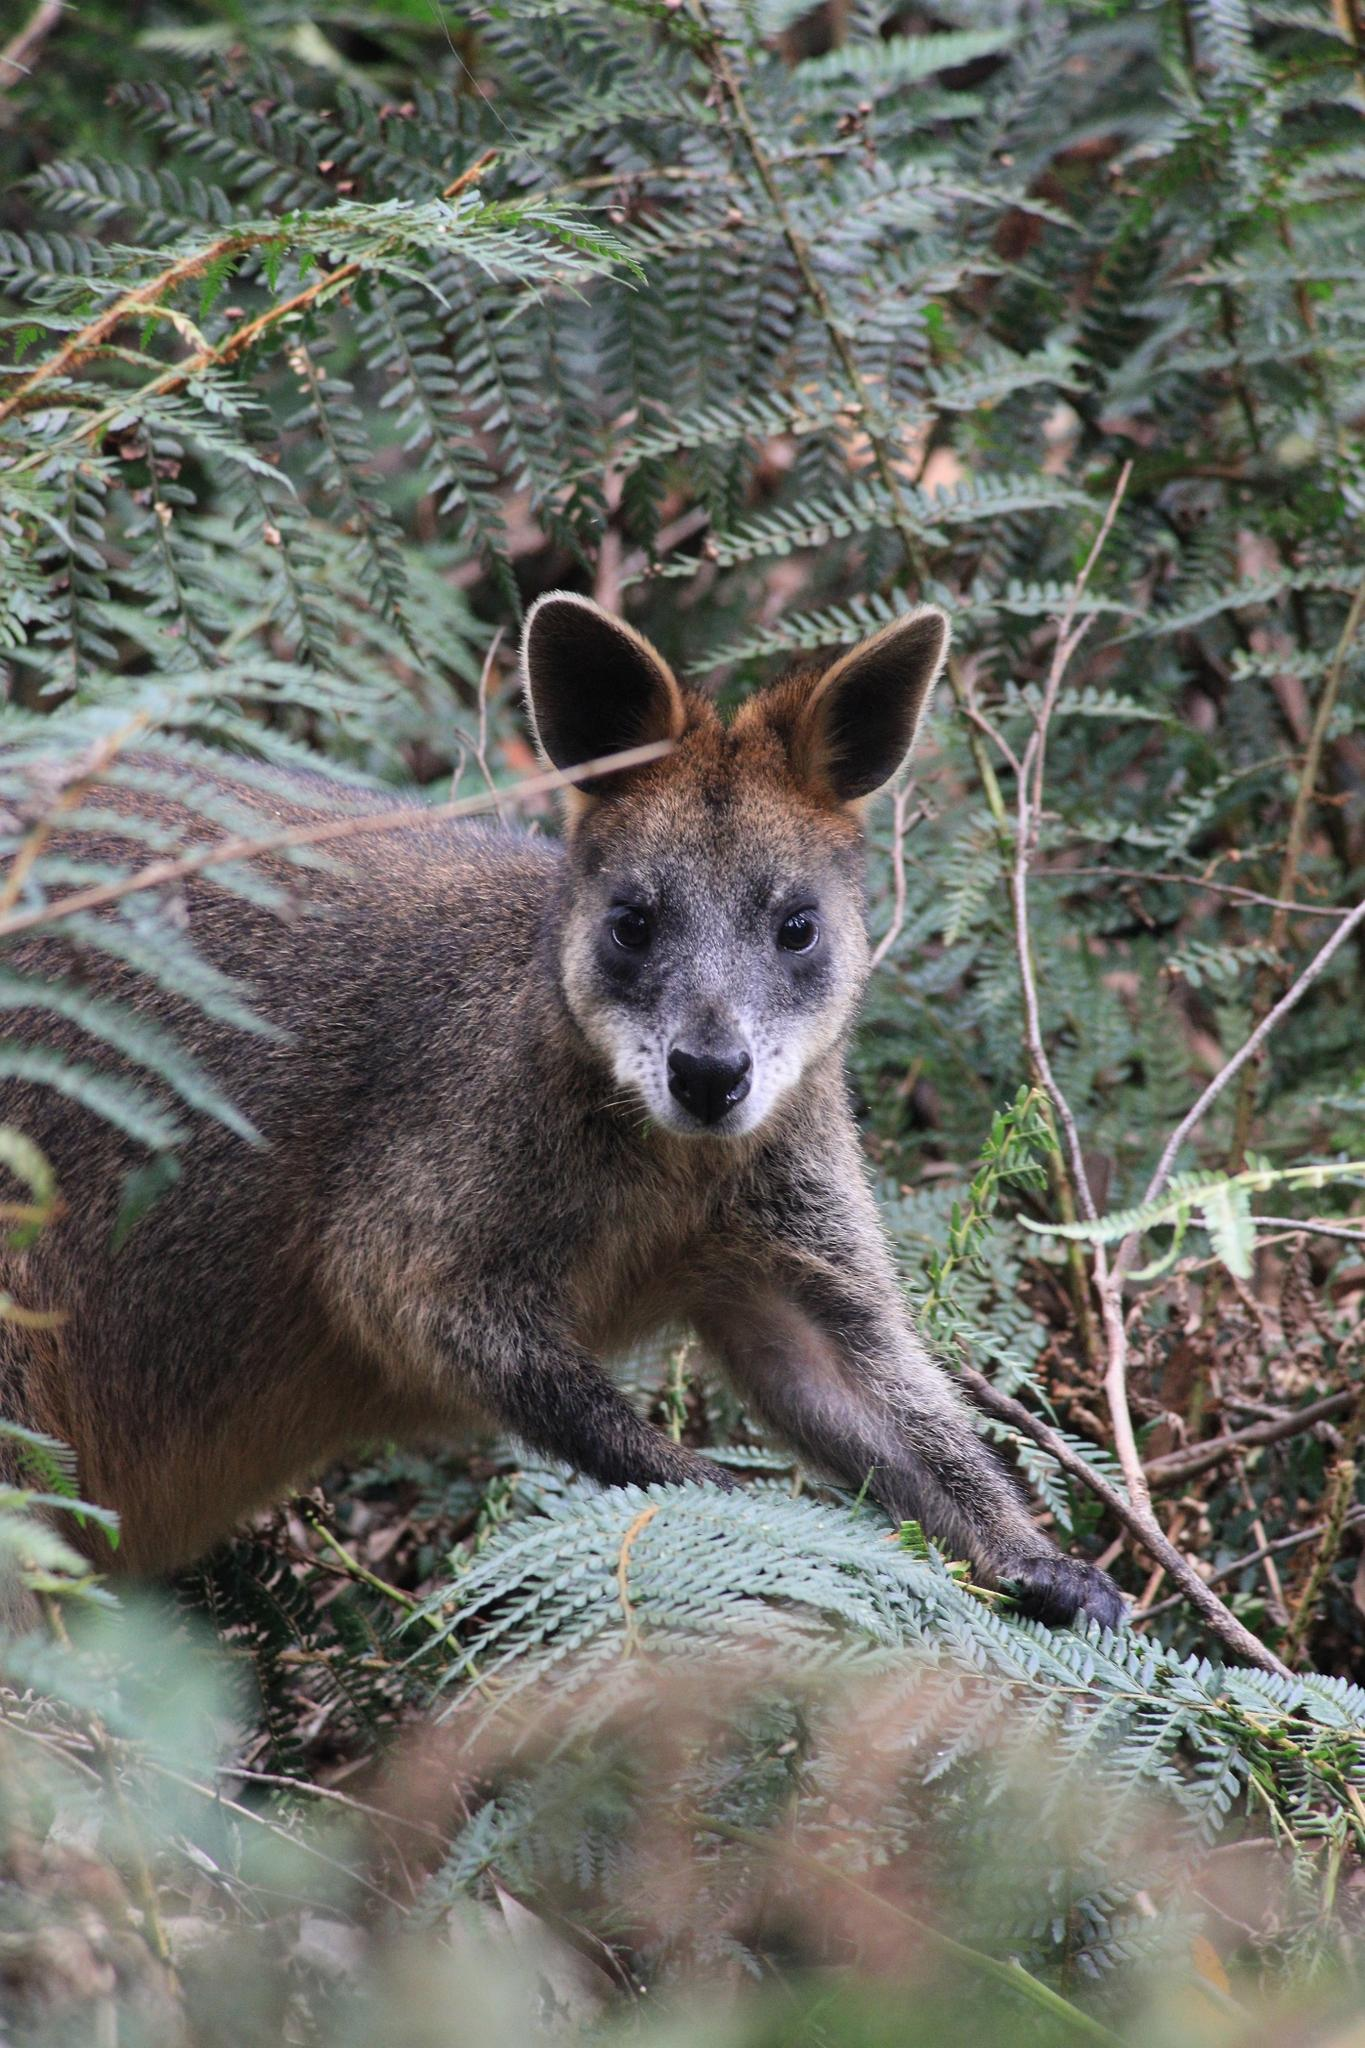Swamp wallaby: (0, 585, 1140, 1652)
